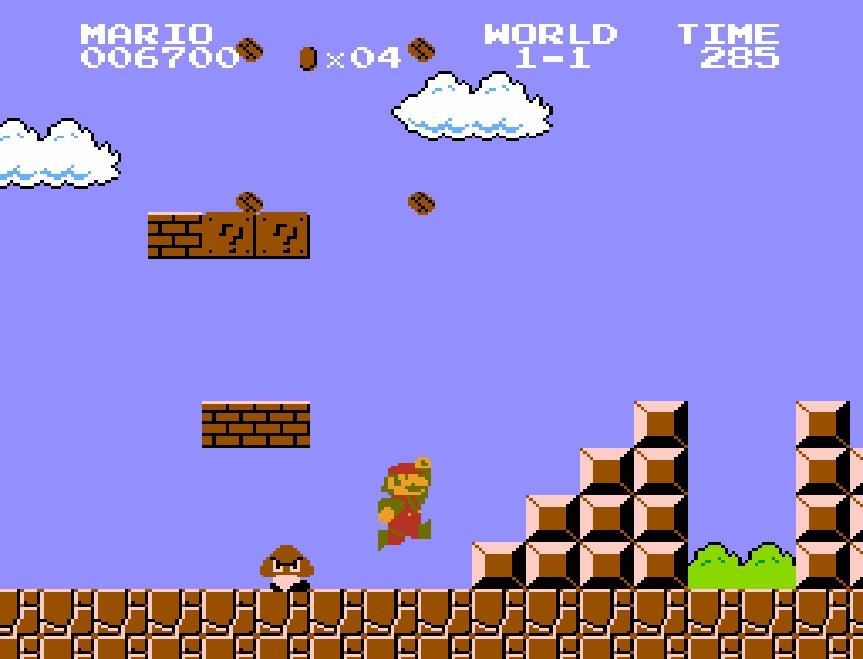big_mario: (376, 455, 434, 553)
